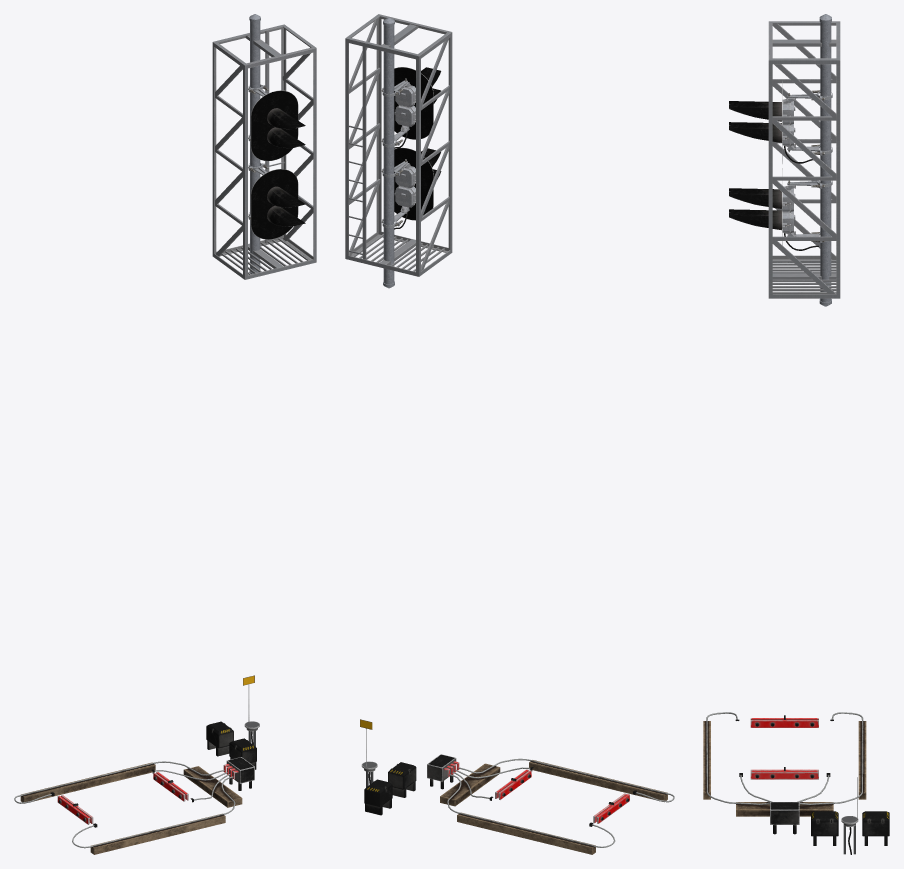
File: RM_sig_P_RM2_YG+RY_2+2_exit.gltf
3 views of the same model, side by side, from view 1: azimuth 30°, elevation 25°; view 2: azimuth 150°, elevation 25°; view 3: azimuth 270°, elevation 25° (orthographic). The views are drawn at different scales.
Visible parts, largest first — view 1: Клетка, Изостык, Светофор; view 2: Клетка, Изостык, Светофор; view 3: Клетка, Изостык, Светофор.
Part boxes in pixels (x1,y1,x2,y2): Клетка: (212, 14, 316, 279); Изостык: (14, 675, 259, 854); Светофор: (248, 84, 305, 239); Клетка: (345, 14, 452, 288); Изостык: (360, 719, 674, 854); Светофор: (381, 67, 441, 229); Клетка: (768, 14, 840, 306); Изостык: (703, 712, 889, 854); Светофор: (729, 81, 832, 250).
Size of the model in its own units: 4.42 by 12.01 by 2.43.
4 materials, 3 textured.
